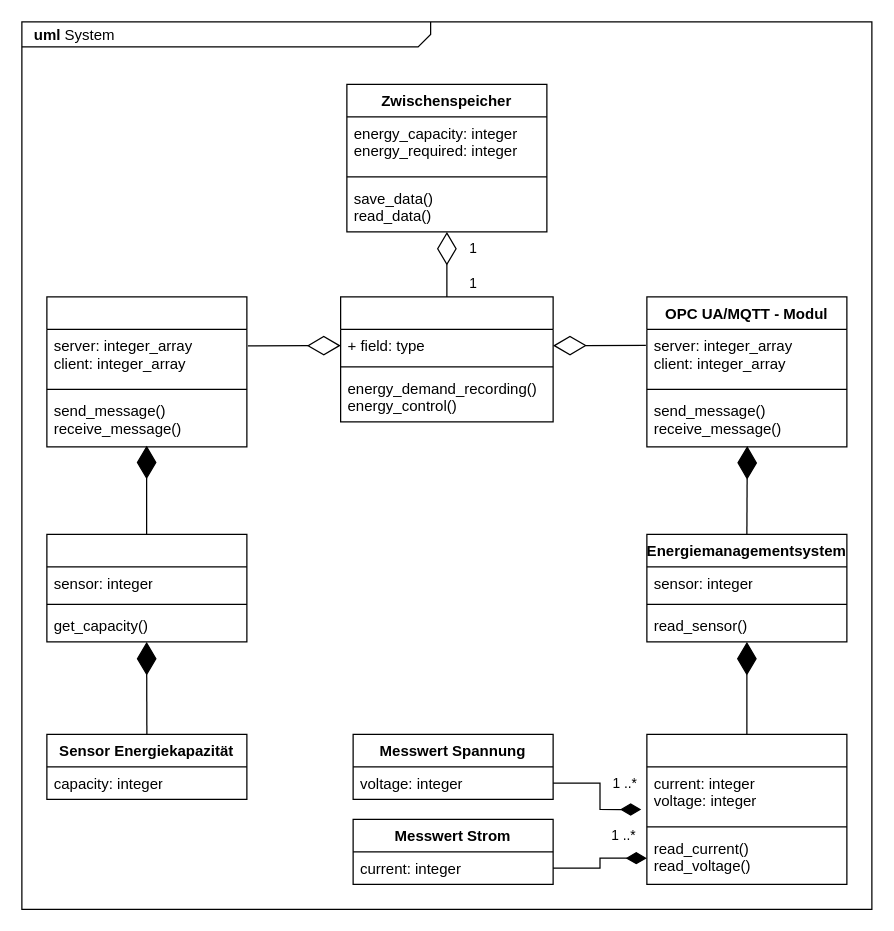
This 894x931 diagram has some shape labels left out. The shapes that lost their labels are listed below. From the top down, each one's box as (x1, y1, x2, y2) in pixels, then its label:
(46, 296, 247, 447): VPN - Modul
(339, 296, 553, 422): MCU
(46, 533, 247, 642): Automatisierungssystem
(646, 733, 847, 884): Sensor Energie
